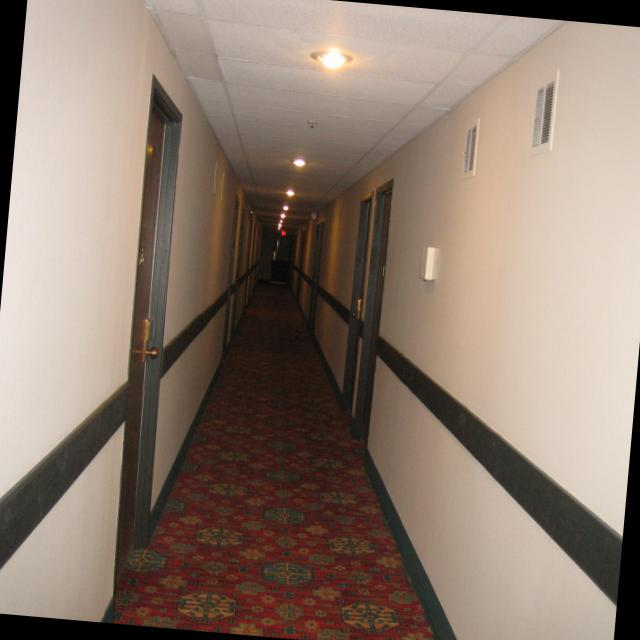exit sign: (281, 230, 286, 235)
